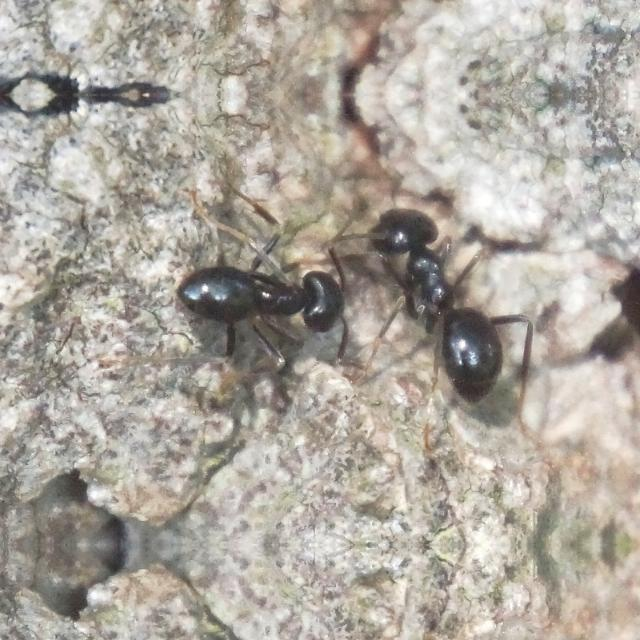Lasius: (361, 192, 534, 404), (178, 229, 354, 345)
